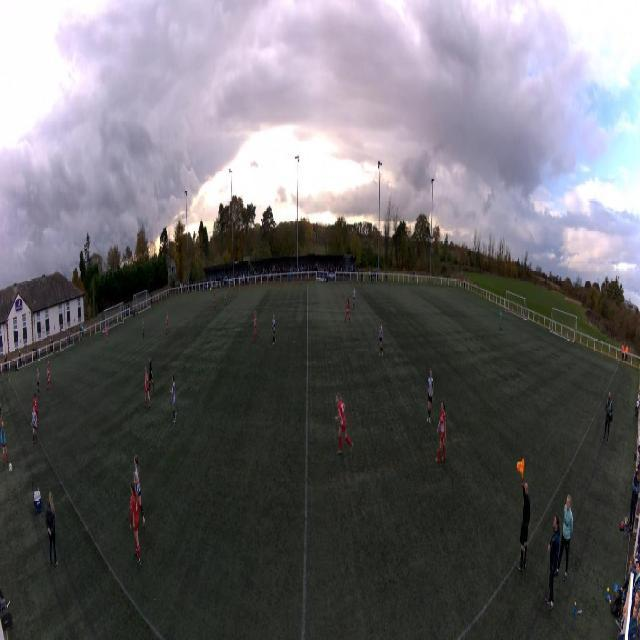player: (335, 394, 354, 456), (130, 481, 142, 566), (133, 454, 146, 529), (435, 404, 447, 460), (170, 375, 177, 422), (427, 368, 433, 422), (144, 365, 151, 410), (149, 356, 155, 392), (378, 320, 383, 359), (33, 394, 39, 425), (271, 314, 276, 346), (253, 311, 258, 343), (345, 298, 351, 324), (47, 360, 52, 388), (36, 368, 40, 396), (166, 312, 170, 334), (352, 288, 356, 309), (499, 310, 502, 329), (213, 293, 216, 311), (224, 291, 227, 308), (142, 319, 144, 338), (106, 324, 108, 342)
